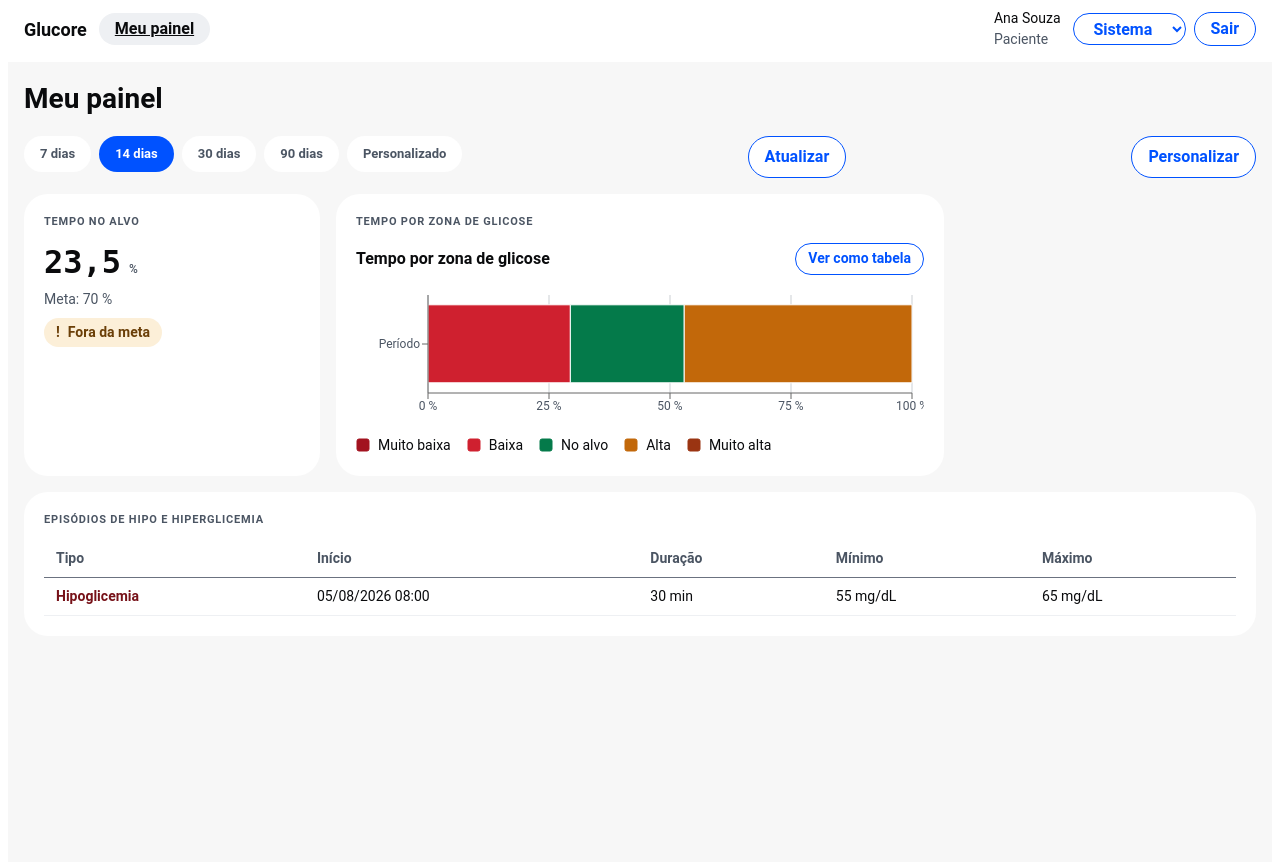
accessibility of the pages (RSP-06, RSP-11) › has no axe violations on the patient dashboard in "Personalizar" mode
Expected: the heading "Meu painel" is shown, [24,82,163,115]
Click the button "Personalizar" at x=1194, y=157, box [1131,136,1256,178]
(page scrolled)
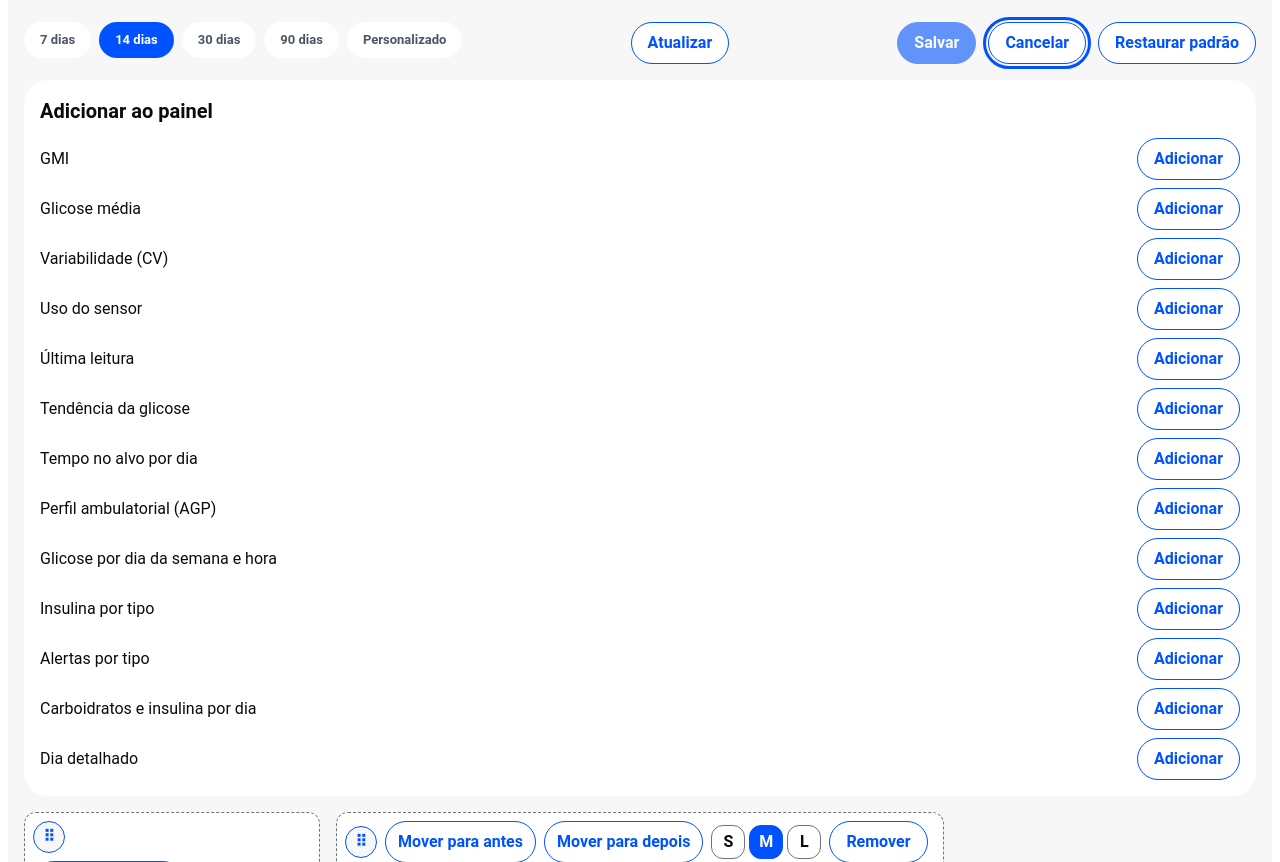
Expected: the element "Adicionar ao painel" is shown
Expected: the number of buttons named "Arrastar " is 3
